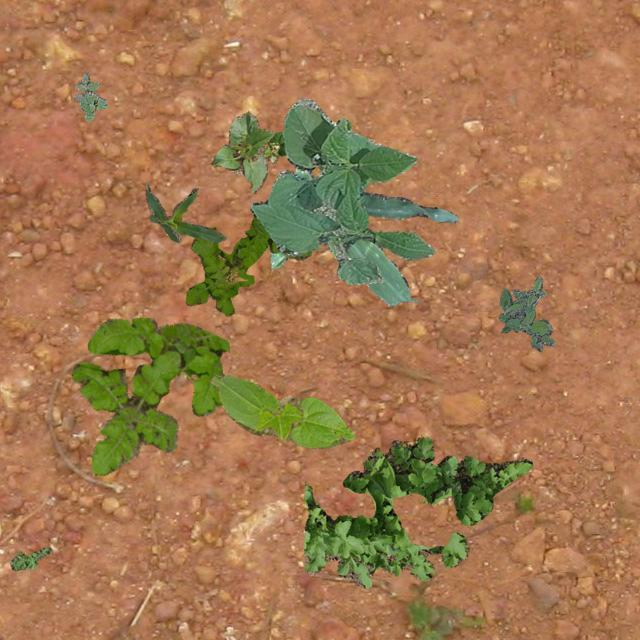crop: (250, 96, 433, 284), (269, 166, 456, 304), (208, 373, 354, 448), (210, 110, 272, 192), (144, 182, 224, 242), (232, 130, 286, 172)
weed: (304, 436, 532, 586), (72, 316, 228, 474), (184, 214, 310, 314), (498, 274, 554, 350), (74, 72, 105, 120), (8, 546, 51, 570)
